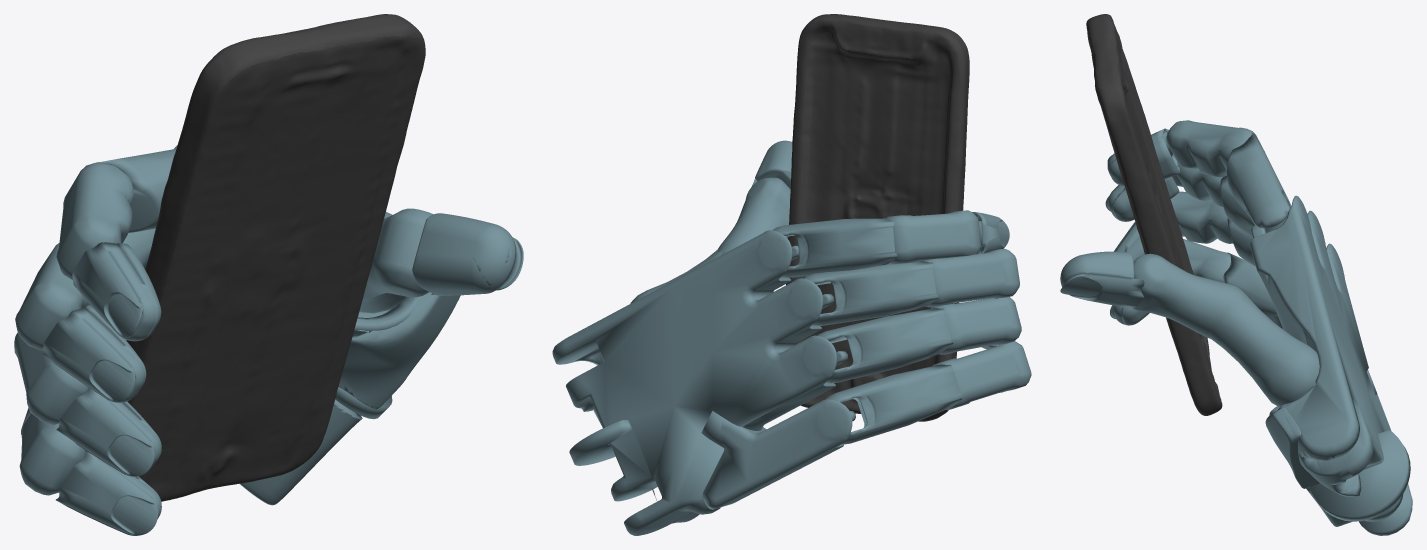
The picture shows the model from 3 angles, left to right: view 1: azimuth 30°, elevation 25°; view 2: azimuth 150°, elevation 25°; view 3: azimuth 270°, elevation 25°; orthographic projection. The views are drawn at different scales.
Parts seen in each view (by area): view 1: world; view 2: world; view 3: world.
Boxes of the visible parts, x1,y1,x2,y2 form: world: [14, 14, 523, 535]; world: [552, 14, 1031, 535]; world: [1060, 14, 1412, 535].
Bounding box in the file's own units: 0.1697 × 0.1842 × 0.1332.
Materials: 1 (1 with a texture image).
